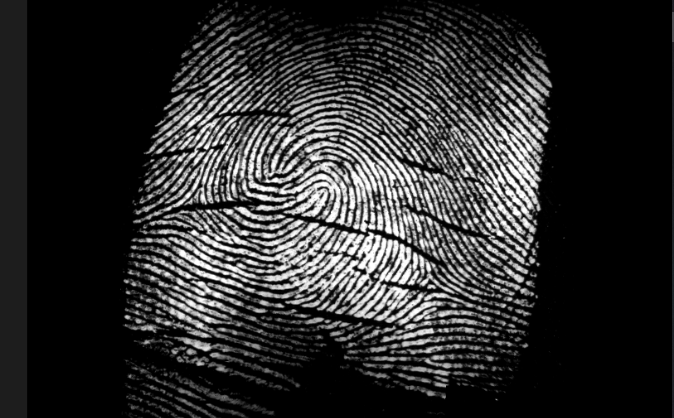nucelo: (298, 180, 343, 215)
verticilo: (407, 266, 455, 296), (171, 190, 201, 221)
